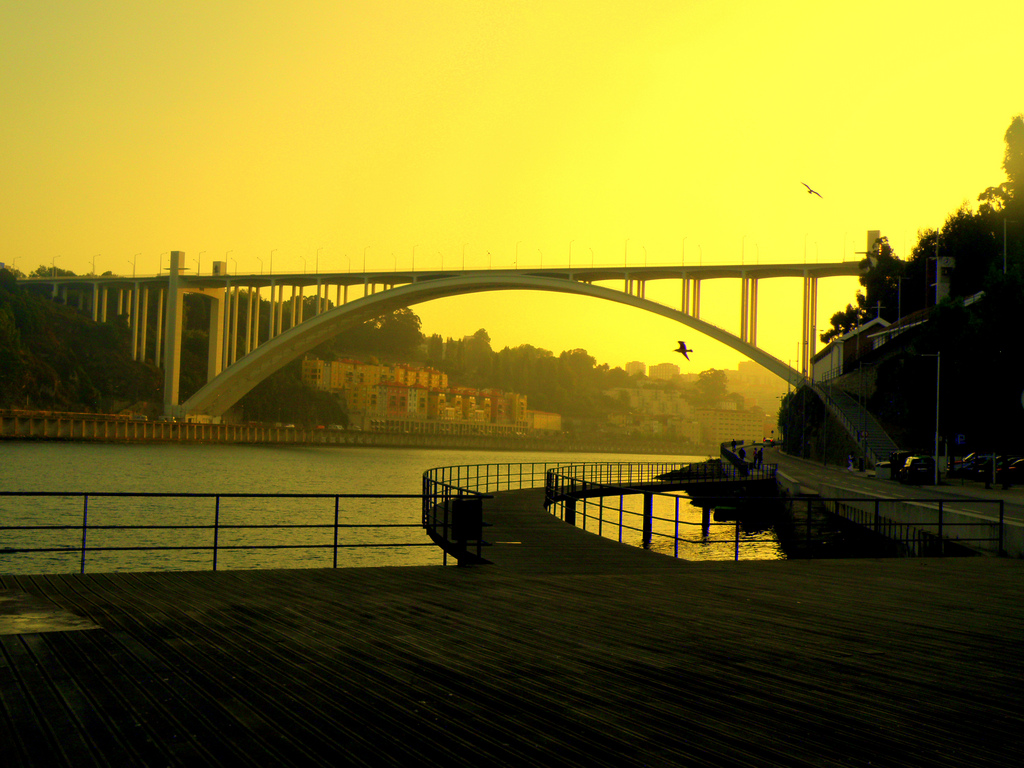arrabida: (0, 227, 913, 425)
